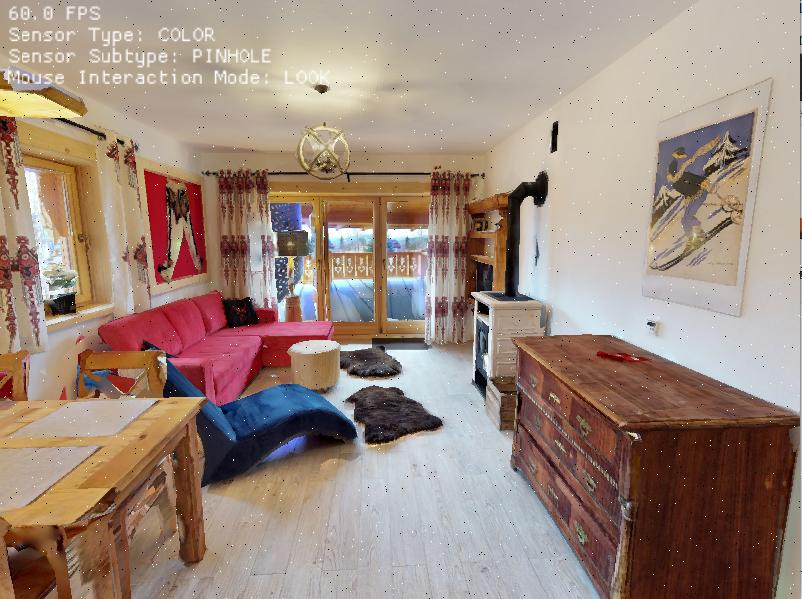sofa: (96, 282, 344, 414)
table: (0, 374, 236, 599)
